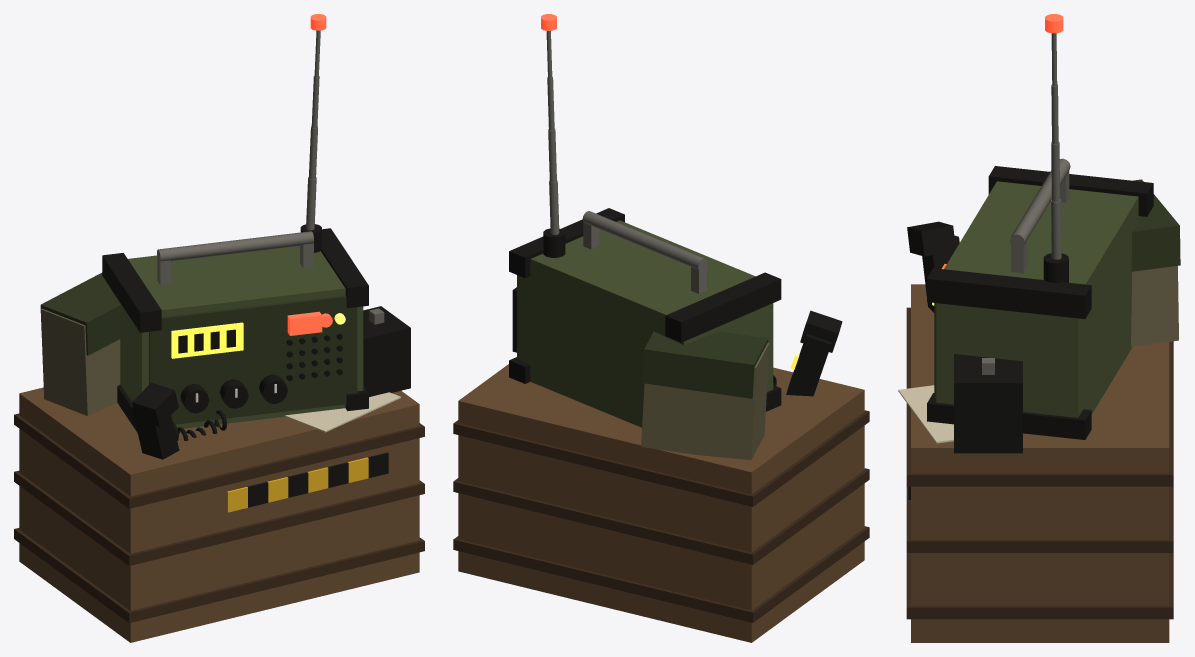
File: radio-rescate.glb
The picture shows the model from 3 angles, left to right: view 1: azimuth 30°, elevation 25°; view 2: azimuth 150°, elevation 25°; view 3: azimuth 270°, elevation 25°; orthographic projection. The views are drawn at different scales.
Visible parts, largest first — view 1: caja_soporte, frontal, carcasa, mochila, tabla_soporte_1, tabla_soporte_2, tabla_soporte_0, bateria, mochila_solapa, protector_2, asa_radio, protector_0 (+8 smaller); view 2: caja_soporte, carcasa, mochila, mochila_solapa, tabla_soporte_0, tabla_soporte_1, tabla_soporte_2, protector_2, asa_radio, auricular_cuerpo, protector_0, auricular_oido (+1 smaller); view 3: caja_soporte, carcasa, bateria, protector_0, tabla_soporte_2, tabla_soporte_0, tabla_soporte_1, mochila, mochila_solapa, protector_2, protector_1, auricular_oido (+8 smaller).
Part boxes in pixels (x1,y1,x2,y2): caja_soporte: (19,387,419,642); frontal: (149,295,357,424); carcasa: (111,246,363,428); mochila: (40,308,120,416); tabla_soporte_1: (14,470,424,565); tabla_soporte_2: (14,413,424,508); tabla_soporte_0: (14,528,424,623); bateria: (363,306,410,396); mochila_solapa: (40,272,120,355); protector_2: (102,253,161,332); asa_radio: (157,231,313,261); protector_0: (320,228,368,308); caja_soporte: (458,364,864,642); carcasa: (517,220,773,427); mochila: (641,343,769,459); mochila_solapa: (642,331,768,398); tabla_soporte_0: (453,526,869,622); tabla_soporte_1: (453,468,869,564); tabla_soporte_2: (453,410,869,506); protector_2: (665,272,781,342); asa_radio: (582,211,707,271); auricular_cuerpo: (786,334,831,396); protector_0: (509,208,624,278); auricular_oido: (800,310,842,352); caja_soporte: (911,284,1169,642); carcasa: (936,181,1142,417); bateria: (954,354,1022,453); protector_0: (927,268,1091,318); tabla_soporte_2: (906,307,1173,486); tabla_soporte_0: (906,553,1173,619); tabla_soporte_1: (906,486,1173,552); mochila: (1131,266,1178,346); mochila_solapa: (1131,179,1180,271); protector_2: (988,166,1153,216); protector_1: (927,393,1091,439); auricular_oido: (907,221,955,256).
Bounding box in the file's own units: 0.94 × 1.54 × 0.6556.
